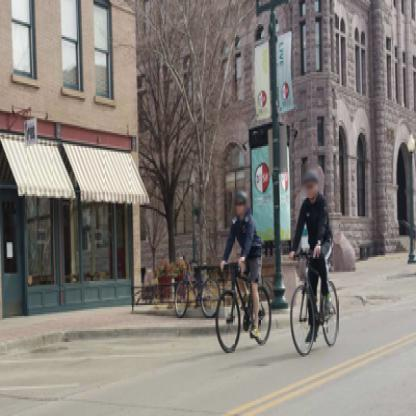Helmet: (297, 164, 324, 202), (230, 187, 253, 223)
